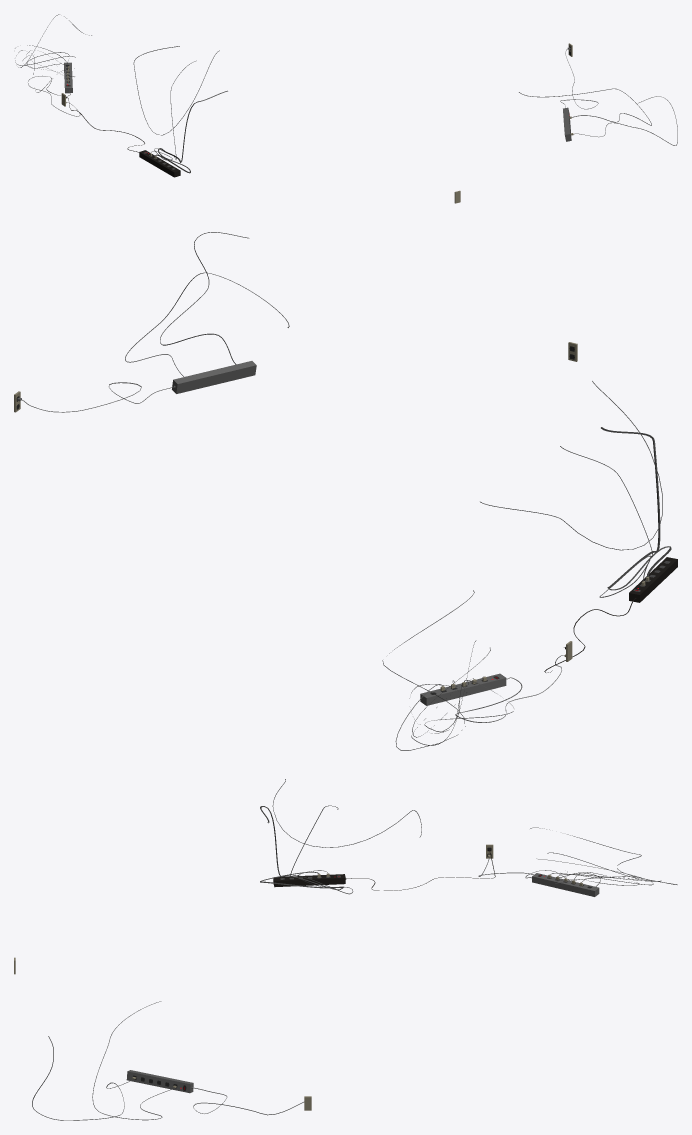
Rendered from Chapter 1.2 Details.fbx.
3 views of the same model, one above another, from view 1: azimuth 30°, elevation 25°; view 2: azimuth 150°, elevation 25°; view 3: azimuth 270°, elevation 25° (orthographic). The views are drawn at different scales.
Parts seen in each view (by area): view 1: TelevisionSet_014, BezierCurve_010; view 2: TelevisionSet_021, TelevisionSet_006, TelevisionSet_014, BezierCurve_010; view 3: TelevisionSet_021, TelevisionSet_014, TelevisionSet_006.
Part boxes in pixels (<box>): TelevisionSet_014: <box>139,150,180,177</box>; BezierCurve_010: <box>155,90,227,173</box>; TelevisionSet_021: <box>172,361,256,393</box>; TelevisionSet_006: <box>420,673,506,705</box>; TelevisionSet_014: <box>629,557,677,602</box>; BezierCurve_010: <box>601,427,671,590</box>; TelevisionSet_021: <box>126,1070,193,1093</box>; TelevisionSet_014: <box>273,874,346,887</box>; TelevisionSet_006: <box>532,873,599,896</box>.
Size of the model in its own units: 54.41 by 13.57 by 60.43.
